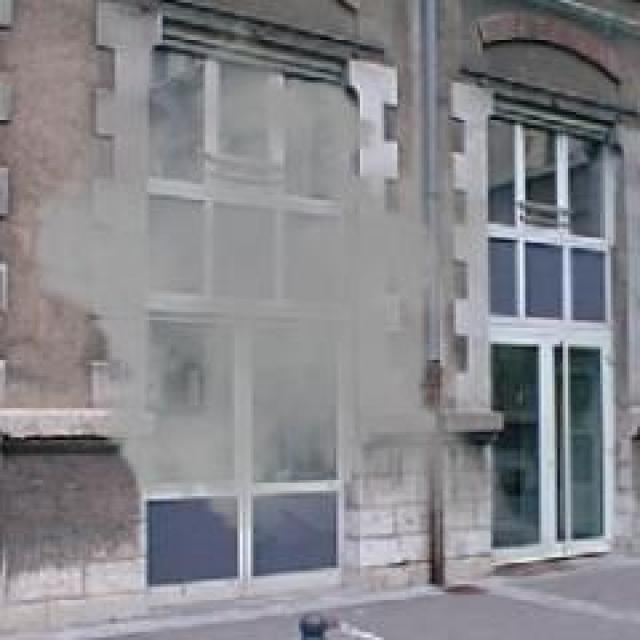smoke: (17, 18, 583, 562)
